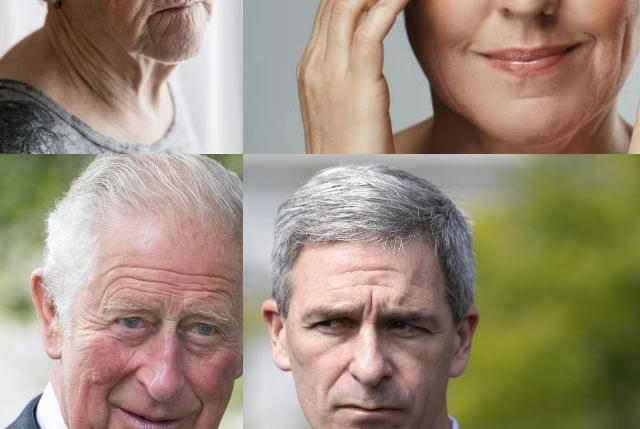chin: (156, 12, 200, 31), (511, 88, 557, 106), (136, 27, 154, 54)
crows_feet: (85, 314, 107, 336), (222, 333, 236, 350)
forehead: (104, 262, 166, 294), (180, 272, 233, 306), (341, 260, 399, 278), (359, 278, 389, 292)
frown_line: (363, 296, 379, 320), (160, 314, 178, 332)
gummy_smile: (108, 360, 134, 398), (188, 377, 208, 417), (325, 362, 349, 392), (130, 2, 144, 26)
masseter: (434, 70, 460, 110), (618, 18, 632, 72)
sad_smile: (579, 28, 605, 60), (448, 34, 472, 60)
